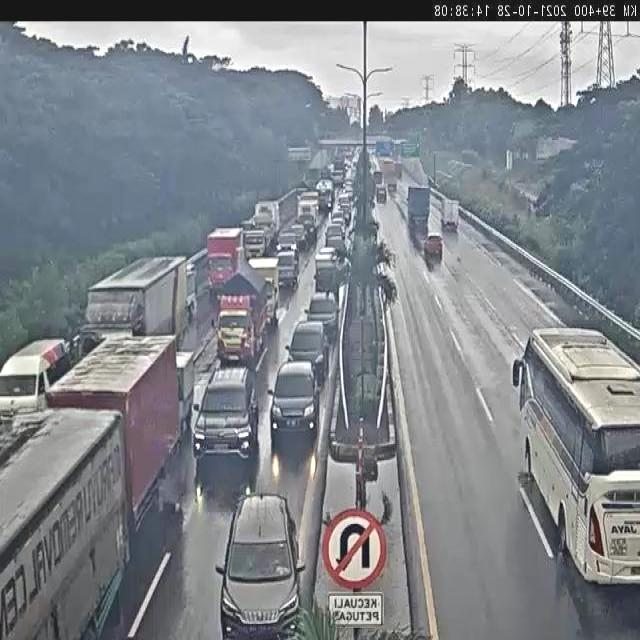Bus: (515, 311, 640, 590)
Car: (216, 489, 306, 638), (189, 360, 259, 467), (267, 360, 319, 440), (286, 319, 330, 385), (304, 294, 339, 344), (314, 248, 344, 293), (253, 200, 280, 242), (275, 247, 300, 290), (277, 226, 305, 261), (324, 224, 345, 252), (296, 212, 316, 241), (315, 178, 334, 208), (337, 191, 352, 220), (376, 184, 387, 203)
Truck: (1, 406, 133, 640), (82, 256, 188, 350), (210, 274, 271, 366), (206, 228, 244, 294), (406, 186, 431, 244), (442, 193, 465, 239)
Van: (0, 333, 66, 416)
